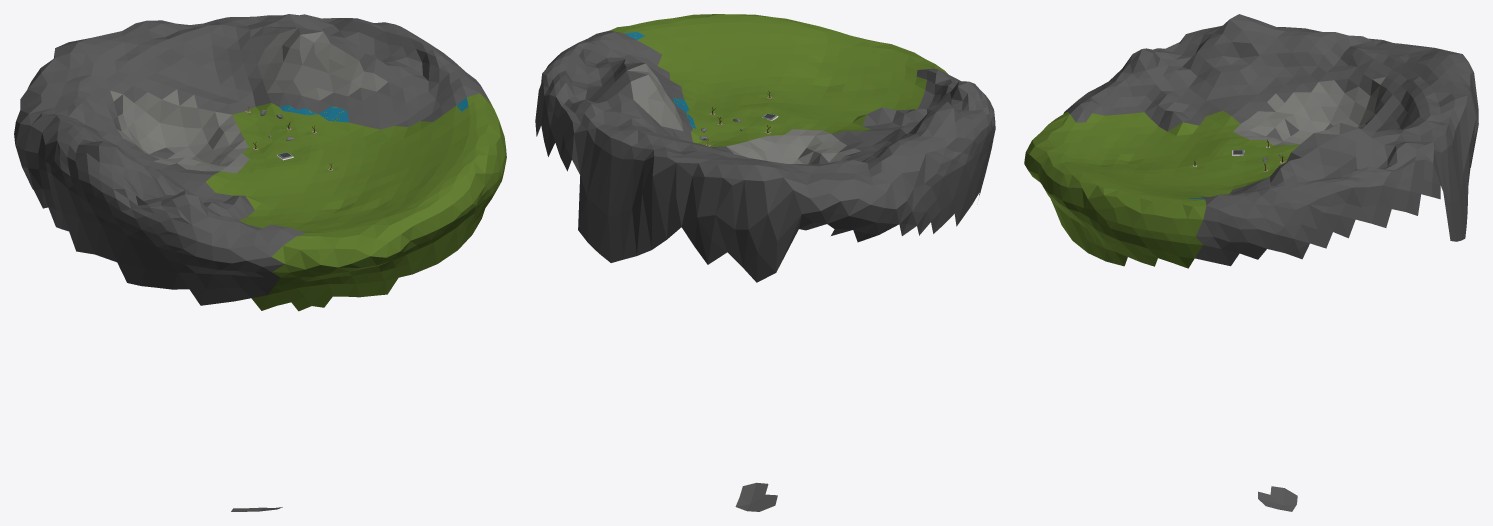
The model's file is environmentOnly.obj.
3 renders of one model, left to right at view 1: azimuth 30°, elevation 25°; view 2: azimuth 150°, elevation 25°; view 3: azimuth 270°, elevation 25°, orthographic. The views are drawn at different scales.
Visible parts, largest first — view 1: Base_Icosphere.003; view 2: Base_Icosphere.003; view 3: Base_Icosphere.003.
Boxes of the visible parts, left/top/right/bottom form: Base_Icosphere.003: left=14, top=14, right=506, bottom=511; Base_Icosphere.003: left=535, top=14, right=995, bottom=511; Base_Icosphere.003: left=1024, top=14, right=1478, bottom=511.
Bounding box in the file's own units: 859 × 886 × 873.
9 materials, 9 textured.
